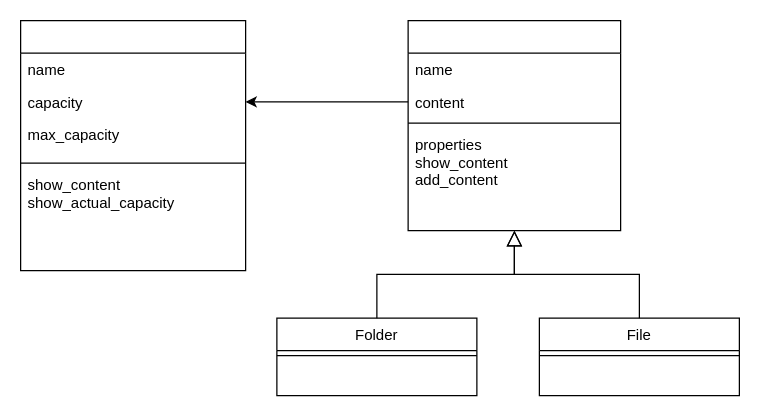
Image size: 760x416. Some labels were removed from this diagram. The box of each missing label's shape, as (x1, y1, x2, y2) in pixels:
Disc(singleton class): (19, 19, 246, 271)
System_element: (407, 19, 621, 231)
